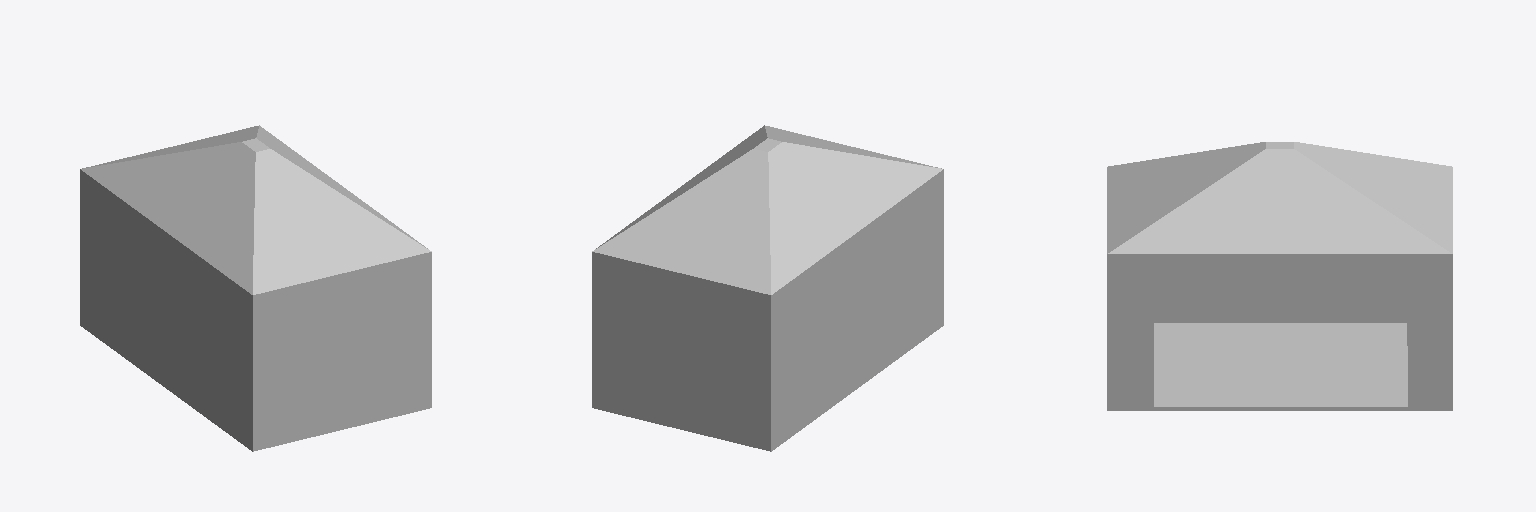
File: opengarage.obj
3 views of the same model, side by side, from view 1: azimuth 30°, elevation 25°; view 2: azimuth 150°, elevation 25°; view 3: azimuth 270°, elevation 25° (orthographic).
Visible parts, largest first — view 1: Cube; view 2: Cube; view 3: Cube.
Part boxes in pixels (left/top/right/bottom): Cube: left=80, top=125, right=431, bottom=451; Cube: left=592, top=125, right=943, bottom=451; Cube: left=1107, top=142, right=1452, bottom=410.
Size of the model in its own units: 6 by 7.08 by 10.